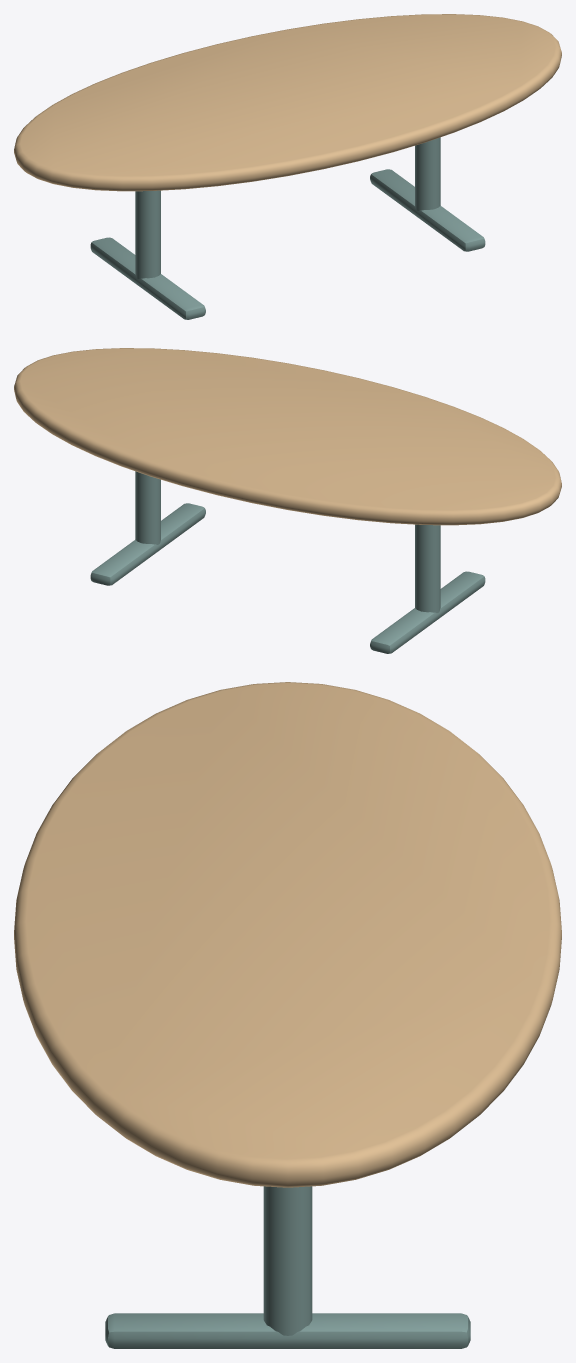
The model's file is meeting_table.glb.
3 views of the same model, one above another, from view 1: azimuth 30°, elevation 25°; view 2: azimuth 150°, elevation 25°; view 3: azimuth 270°, elevation 25° (orthographic). The views are drawn at different scales.
Parts seen in each view (by area): view 1: wood, paint; view 2: wood, paint; view 3: wood, paint.
Boxes of the visible parts, x1=… form: wood: x1=14, y1=14, x2=561, y2=191; paint: x1=90, y1=137, x2=485, y2=319; wood: x1=14, y1=348, x2=561, y2=525; paint: x1=90, y1=471, x2=485, y2=653; wood: x1=14, y1=682, x2=561, y2=1187; paint: x1=105, y1=1186, x2=470, y2=1348.
Size of the model in its own units: 1.89 by 0.53 by 0.9.
